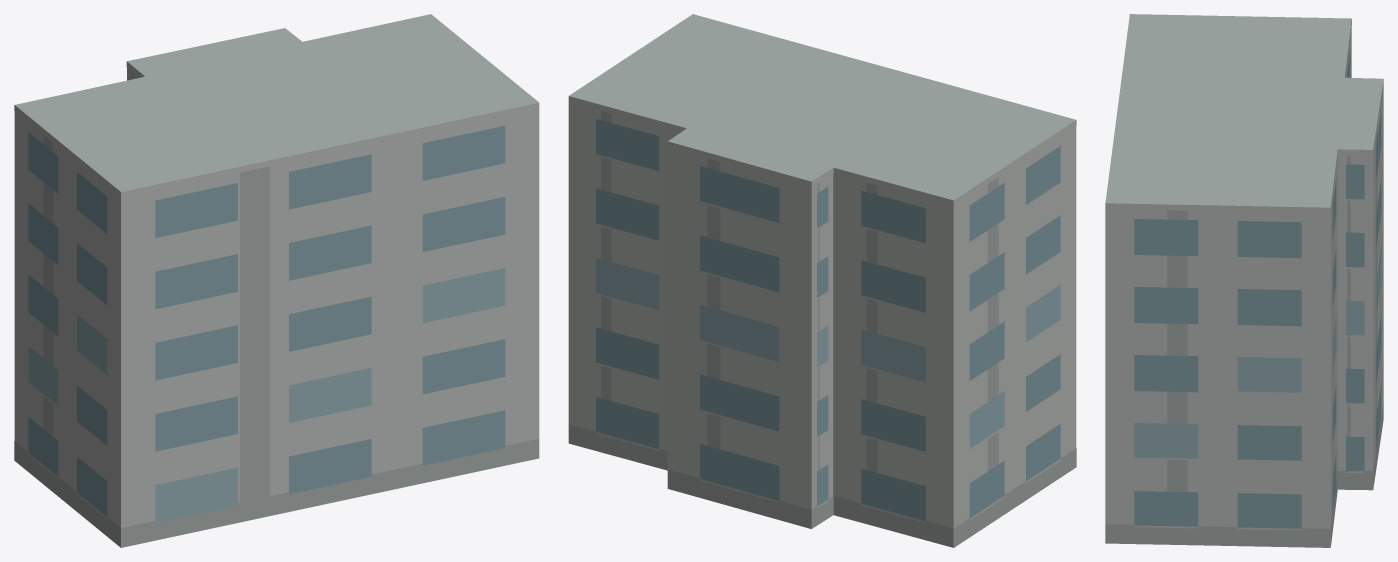
The model's file is survey-upis-33027515.glb.
3 renders of one model, left to right at view 1: azimuth 30°, elevation 25°; view 2: azimuth 150°, elevation 25°; view 3: azimuth 270°, elevation 25°, orthographic. The views are drawn at different scales.
Parts seen in each view (by area): view 1: survey-upis-33027515.tmp; view 2: survey-upis-33027515.tmp; view 3: survey-upis-33027515.tmp.
Part boxes in pixels (x1,y1,x2,y2): survey-upis-33027515.tmp: (14,14,539,547); survey-upis-33027515.tmp: (568,14,1076,547); survey-upis-33027515.tmp: (1105,14,1383,547).
Size of the model in its own units: 17.22 by 14.1 by 10.46.
